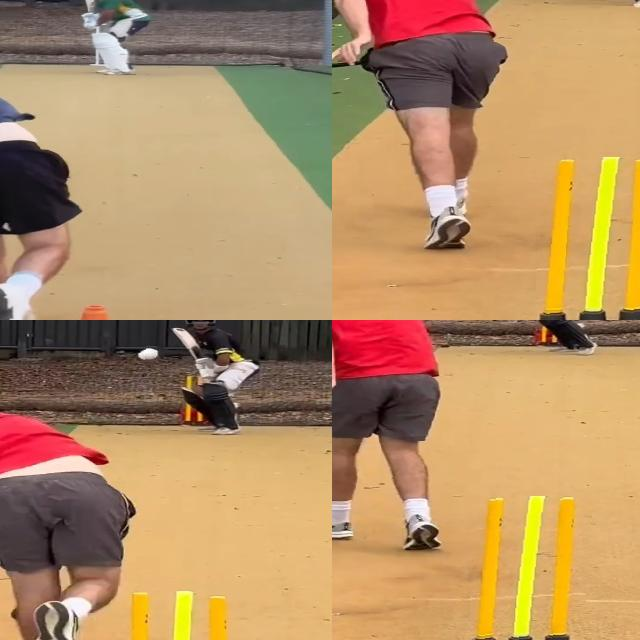Cricket ball: (137, 346, 162, 362)
Stumps: (470, 496, 594, 640), (535, 157, 640, 320), (109, 589, 246, 640)
